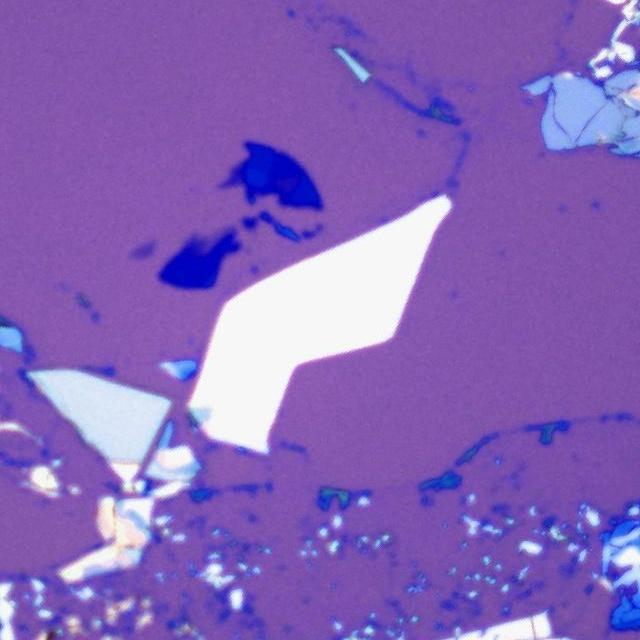monolayer-eWW4: (204, 227, 225, 254), (130, 240, 156, 260)
